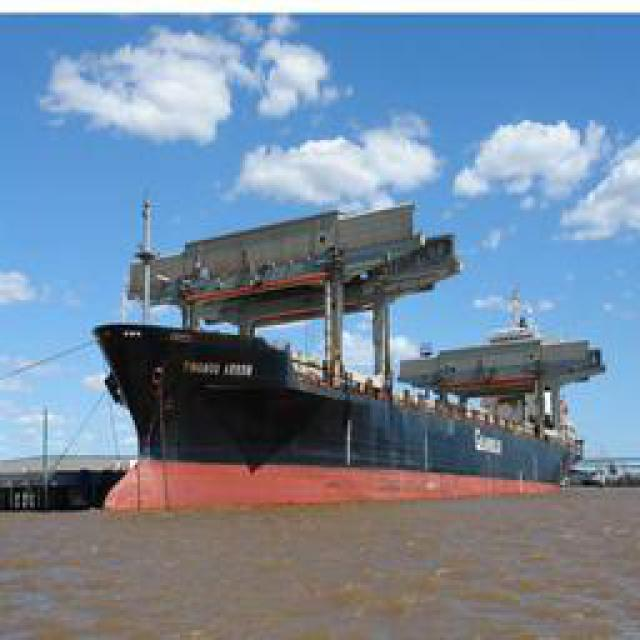Ship: (97, 174, 620, 520)
